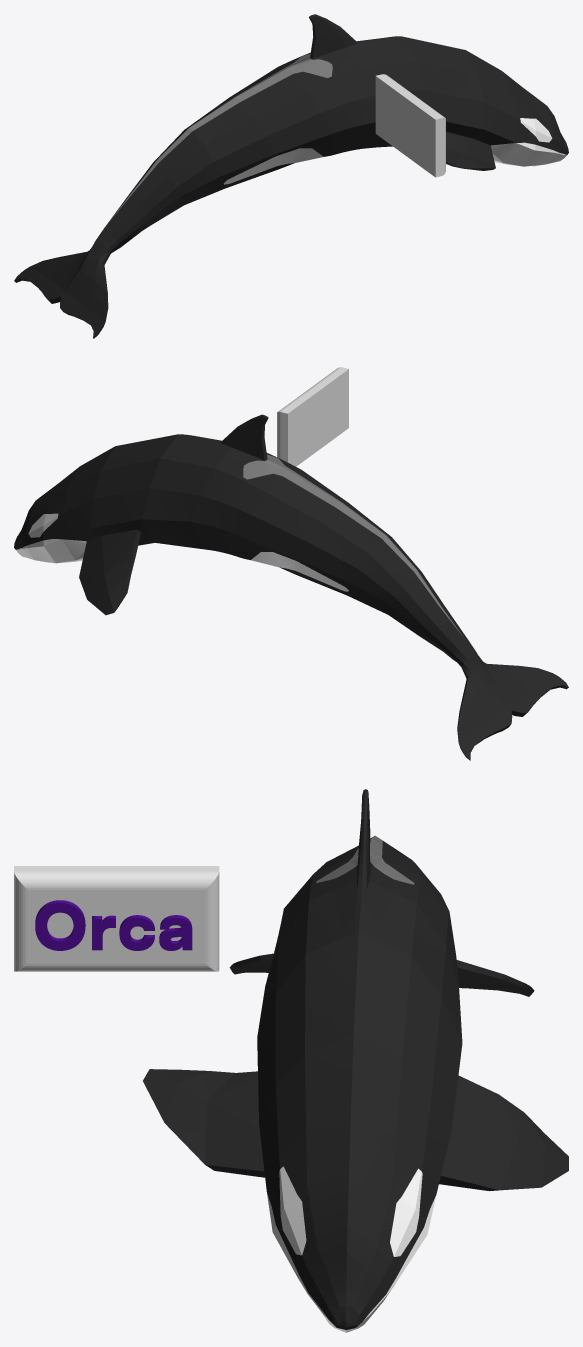
The model's file is Orca.fbx.
3 views of the same model, one above another, from view 1: azimuth 30°, elevation 25°; view 2: azimuth 150°, elevation 25°; view 3: azimuth 270°, elevation 25° (orthographic). The views are drawn at different scales.
Parts seen in each view (by area): view 1: Cube.016, Cube.011; view 2: Cube.016, Cube.011; view 3: Cube.016, Cube.011, Text.011.
Part boxes in pixels (box(x1,y1,x2,y2)): Cube.016: box(14, 14, 568, 338); Cube.011: box(375, 74, 445, 177); Cube.016: box(14, 414, 568, 760); Cube.011: box(277, 367, 348, 466); Cube.016: box(143, 789, 568, 1332); Cube.011: box(14, 866, 219, 971); Text.011: box(35, 900, 192, 950).
Bounding box in the file's own units: 8.27 × 3.77 × 4.57.
